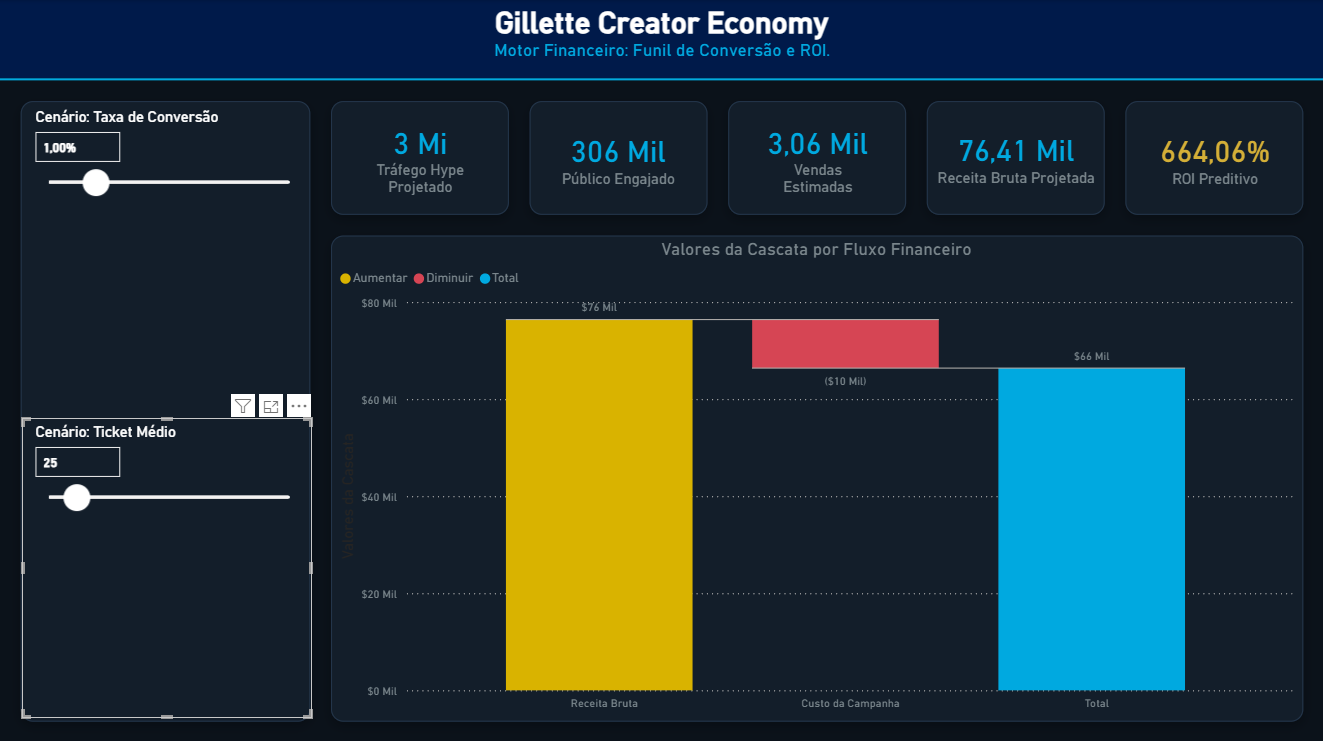

The dashboard page shown, as its layout file describes it:
{"tool":"powerbi","page":{"name":"02. Simulador de Conversão e ROI","canvas":[1280,720],"ordinal":1},"visuals":[{"type":"slicer","fields":{"Values":["Cenário: Ticket Médio.Cenário: Ticket Médio"]},"box":[21.3,403.9,280.2,290.1],"z":0},{"type":"cardVisual","fields":{"Data":["_Medidas.Tráfego Hype Projetado"]},"box":[322.2,100.1,169.5,109.1],"z":1000},{"type":"cardVisual","fields":{"Data":["_Medidas.Público Engajado"]},"box":[513.5,100.1,169.5,109.1],"z":2000},{"type":"cardVisual","fields":{"Data":["_Medidas.Receita Bruta Projetada"]},"box":[875.5,99.6,213.5,109.1],"z":3000},{"type":"cardVisual","fields":{"Data":["_Medidas.ROI Preditivo"]},"box":[1068.8,99.6,211.2,110.3],"z":4000},{"type":"textbox","box":[0,0,1280,73.9],"z":5000},{"type":"cardVisual","fields":{"Data":["_Medidas.Vendas Estimadas"]},"box":[707.2,100.2,168.5,109.9],"z":6000},{"type":"slicer","fields":{"Values":["Cenário: Taxa de Conversão.Cenário: Taxa de Conversão"]},"box":[21.3,99.6,280.2,260.3],"z":7001},{"type":"waterfallChart","fields":{"Category":["Estrutura Cascata.Fluxo Financeiro"],"Y":["Estrutura Cascata.Valores da Cascata"]},"box":[322.8,230.4,933,463.6],"z":7002}]}

Visuals, with their boxes in screenshot pixels (x1, y1, x2, y2), scaled from the page's 1280x720 canvas onto the 1323x741 screenshot:
slicer - Cenário: Ticket Médio.Cenário: Ticket Médio: [x1=22, y1=416, x2=312, y2=714]
cardVisual - _Medidas.Tráfego Hype Projetado: [x1=333, y1=103, x2=508, y2=215]
cardVisual - _Medidas.Público Engajado: [x1=531, y1=103, x2=706, y2=215]
cardVisual - _Medidas.Receita Bruta Projetada: [x1=905, y1=103, x2=1126, y2=215]
cardVisual - _Medidas.ROI Preditivo: [x1=1105, y1=103, x2=1322, y2=216]
textbox: [x1=0, y1=0, x2=1322, y2=76]
cardVisual - _Medidas.Vendas Estimadas: [x1=731, y1=103, x2=905, y2=216]
slicer - Cenário: Taxa de Conversão.Cenário: Taxa de Conversão: [x1=22, y1=103, x2=312, y2=370]
waterfallChart - Estrutura Cascata.Fluxo Financeiro x Estrutura Cascata.Valores da Cascata: [x1=334, y1=237, x2=1298, y2=714]
